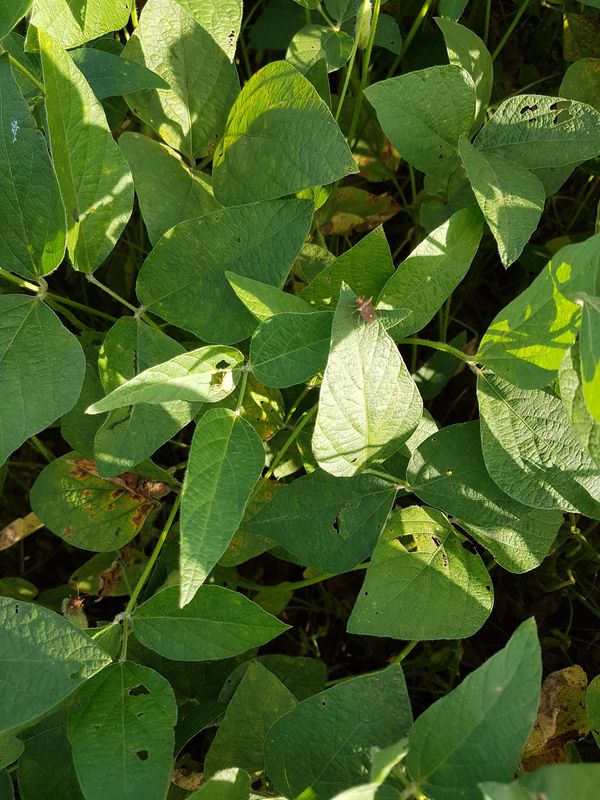Euschistus_heros_adulto: (344, 291, 383, 331), (59, 589, 89, 619)
